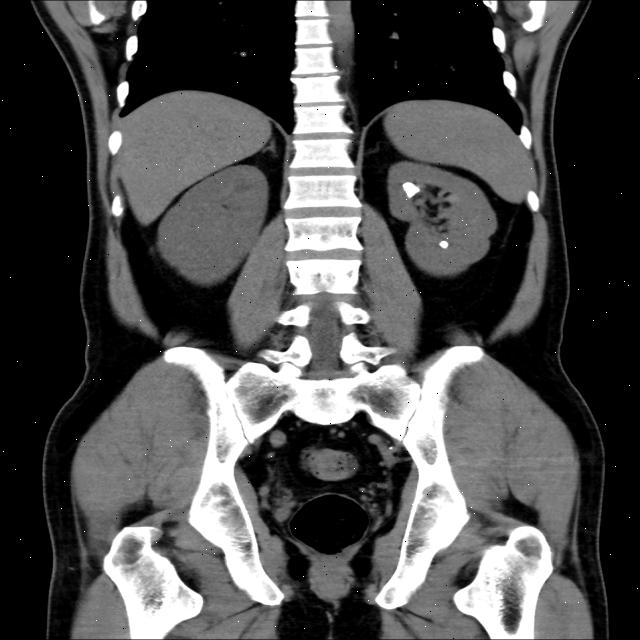kidneystone: (402, 182, 421, 198), (438, 241, 449, 249)
